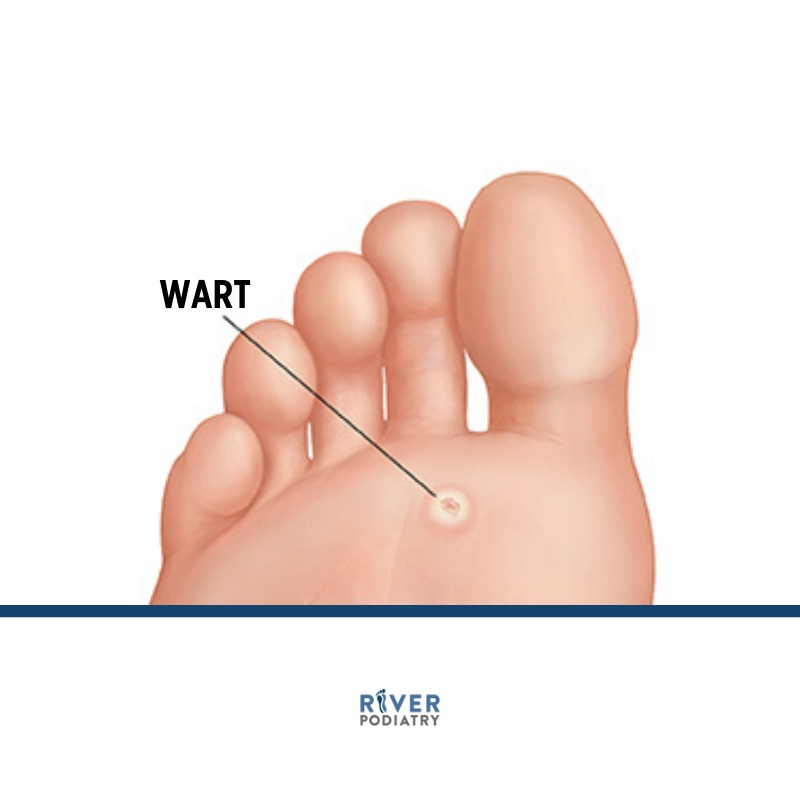Warts: (413, 482, 493, 547)
